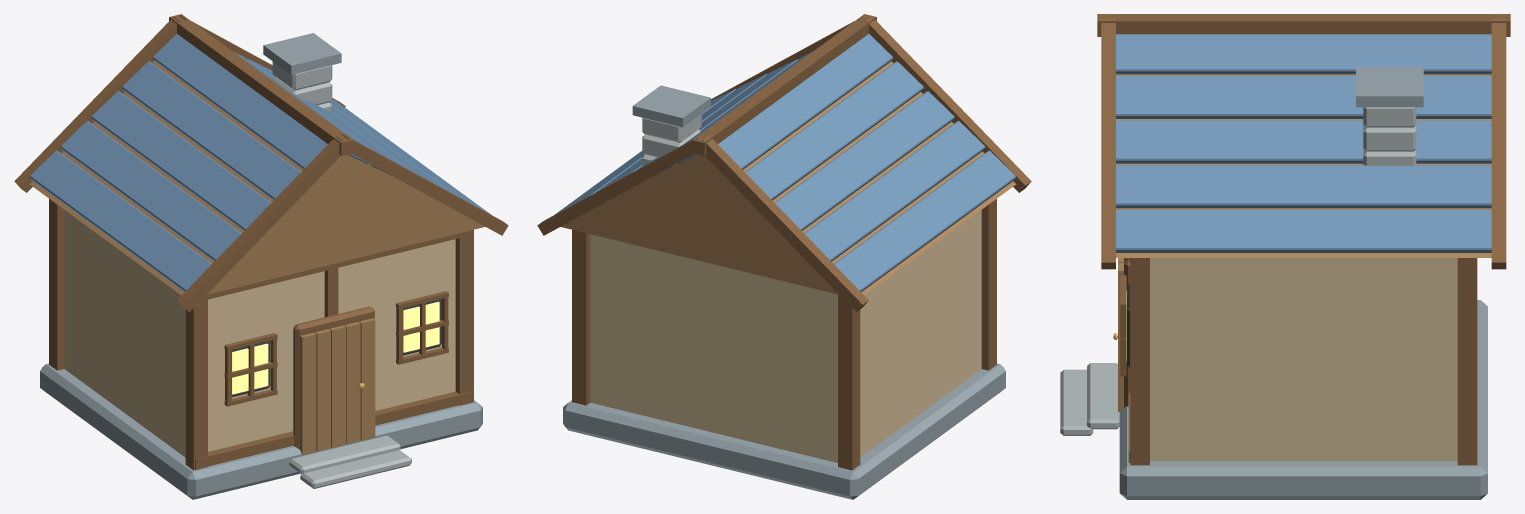
The model's file is HouseBlue.glb.
3 views of the same model, side by side, from view 1: azimuth 30°, elevation 25°; view 2: azimuth 150°, elevation 25°; view 3: azimuth 270°, elevation 25° (orthographic). The views are drawn at different scales.
Visible parts, largest first — view 1: PlasterWalls, Gable, StoneFoundation, Ridge, GableTrim, CornerPost, CornerPost.001, CrossTimber, GableTrim.001, CornerPost.002, GableTrim.002, ChimneyCap (+45 smaller); view 2: PlasterWalls, Gable, StoneFoundation, Ridge, GableTrim.001, CornerPost.002, CornerPost.003, GableTrim, CornerPost, GableTrim.003, ChimneyCap, RoofShingle.014 (+32 smaller); view 3: PlasterWalls, StoneFoundation, Ridge, Gable, CornerPost.003, CornerPost.001, GableTrim.003, GableTrim.002, ChimneyCap, RoofShingle.051, RoofShingle.057, RoofShingle.037 (+32 smaller).
Part boxes in pixels (box(x1,y1,x2,y2)): PlasterWalls: box(64, 210, 455, 457); Gable: box(29, 61, 485, 295); StoneFoundation: box(40, 363, 482, 499); Ridge: box(169, 14, 353, 155); GableTrim: box(177, 135, 342, 311); CornerPost: box(185, 299, 207, 470); CornerPost.001: box(455, 229, 473, 405); CrossTimber: box(195, 391, 473, 469); GableTrim.001: box(14, 17, 180, 192); CornerPost.002: box(49, 199, 64, 370); GableTrim.002: box(342, 134, 508, 235); ChimneyCap: box(263, 33, 341, 74); PlasterWalls: box(590, 210, 981, 462); Gable: box(560, 61, 1016, 295); StoneFoundation: box(563, 363, 1005, 499); Ridge: box(692, 14, 876, 155); GableTrim.001: box(703, 135, 868, 311); CornerPost.002: box(838, 294, 860, 470); CornerPost.003: box(572, 229, 590, 405); GableTrim: box(865, 17, 1031, 192); CornerPost: box(981, 199, 996, 370); GableTrim.003: box(537, 134, 703, 235); ChimneyCap: box(632, 85, 710, 127); RoofShingle.014: box(849, 129, 902, 177); PlasterWalls: box(1150, 258, 1457, 460); StoneFoundation: box(1119, 300, 1487, 499); Ridge: box(1097, 14, 1510, 36); Gable: box(1116, 74, 1491, 257); CornerPost.003: box(1457, 258, 1477, 465); CornerPost.001: box(1130, 258, 1149, 465); GableTrim.003: box(1491, 18, 1506, 269); GableTrim.002: box(1101, 18, 1115, 269); ChimneyCap: box(1356, 66, 1423, 107); RoofShingle.051: box(1303, 165, 1367, 208); RoofShingle.057: box(1303, 209, 1367, 252); RoofShingle.037: box(1177, 75, 1240, 118).
Bounding box in the file's own units: 11.02 × 10.79 × 11.
